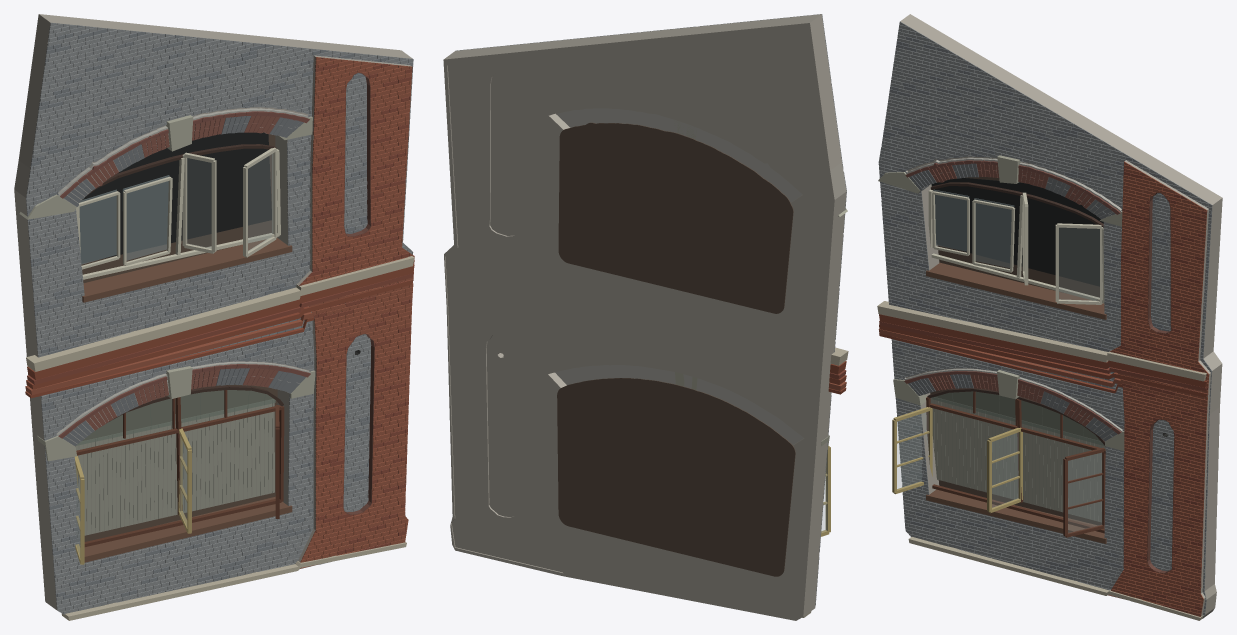
The model's file is huangpu-sijing-28-brick-arched-window-bay-web.glb.
3 views of the same model, side by side, from view 1: azimuth 30°, elevation 25°; view 2: azimuth 150°, elevation 25°; view 3: azimuth 330°, elevation 25° (orthographic). The views are drawn at different scales.
Parts seen in each view (by area): view 1: 泗泾路28号住宅东端双层砖券窗与凹槽壁柱; view 2: 泗泾路28号住宅东端双层砖券窗与凹槽壁柱; view 3: 泗泾路28号住宅东端双层砖券窗与凹槽壁柱.
Part boxes in pixels (box(x1,y1,x2,y2)): 泗泾路28号住宅东端双层砖券窗与凹槽壁柱: box(14, 14, 414, 620); 泗泾路28号住宅东端双层砖券窗与凹槽壁柱: box(443, 14, 848, 620); 泗泾路28号住宅东端双层砖券窗与凹槽壁柱: box(877, 14, 1222, 620).
Size of the model in its own units: 5.05 by 7.57 by 0.7535.
Materials: 27 (1 with a texture image).
